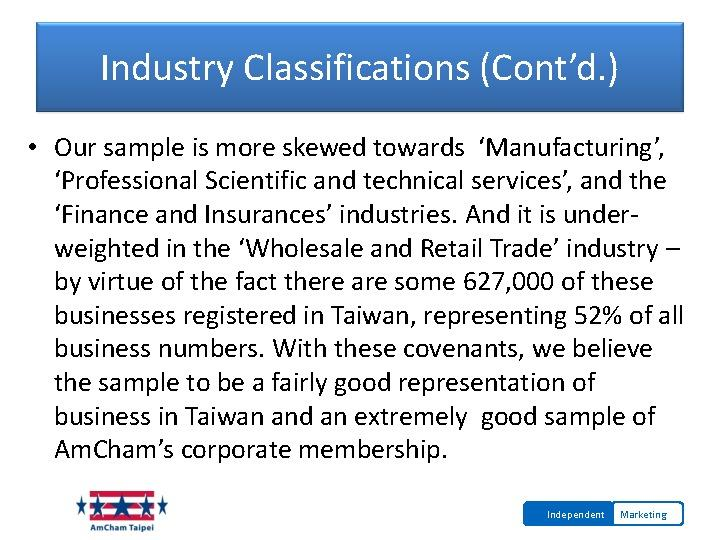paragraph: (47, 125, 707, 472)
title: (91, 38, 629, 99)
